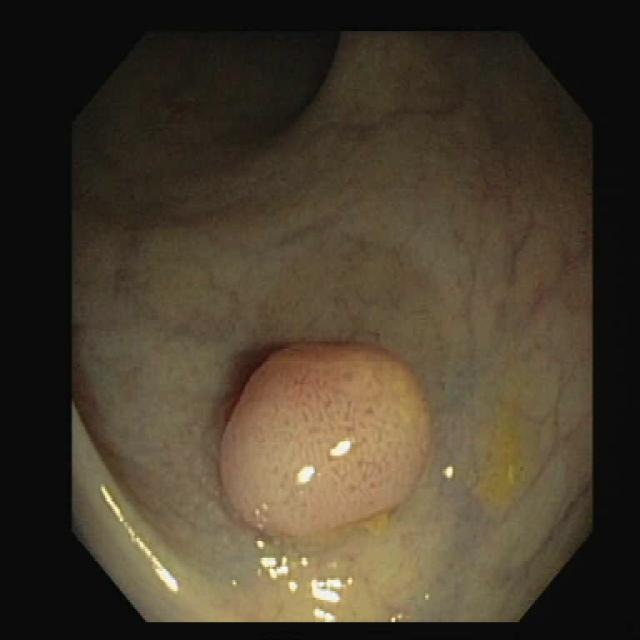tumor: (220, 342, 428, 538)
